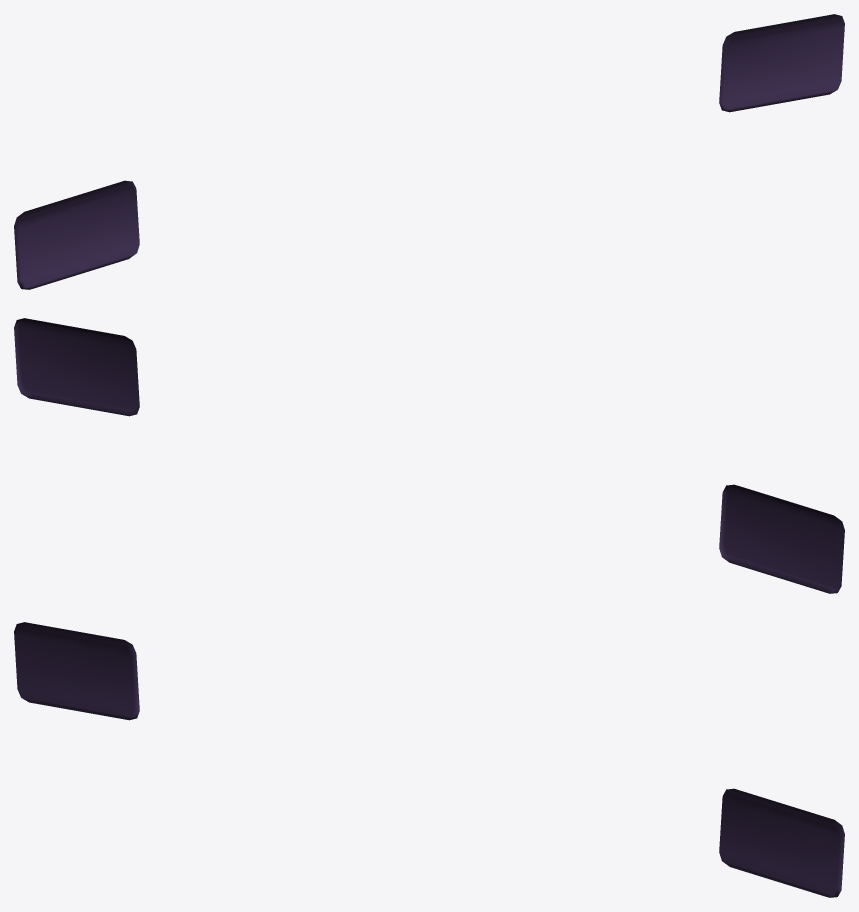
The model's file is MX5_SquarePopUp_Detail.fbx.
3 views of the same model, one above another, from view 1: azimuth 30°, elevation 25°; view 2: azimuth 150°, elevation 25°; view 3: azimuth 330°, elevation 25° (orthographic).
Parts seen in each view (by area): view 1: MX5_SquarePopUp_Detail; view 2: MX5_SquarePopUp_Detail; view 3: MX5_SquarePopUp_Detail.
Part boxes in pixels (x1,y1,x2,y2): MX5_SquarePopUp_Detail: [14, 14, 844, 289]; MX5_SquarePopUp_Detail: [14, 318, 844, 593]; MX5_SquarePopUp_Detail: [14, 622, 844, 897].
Size of the model in its own units: 114 by 11.24 by 0.5522.
